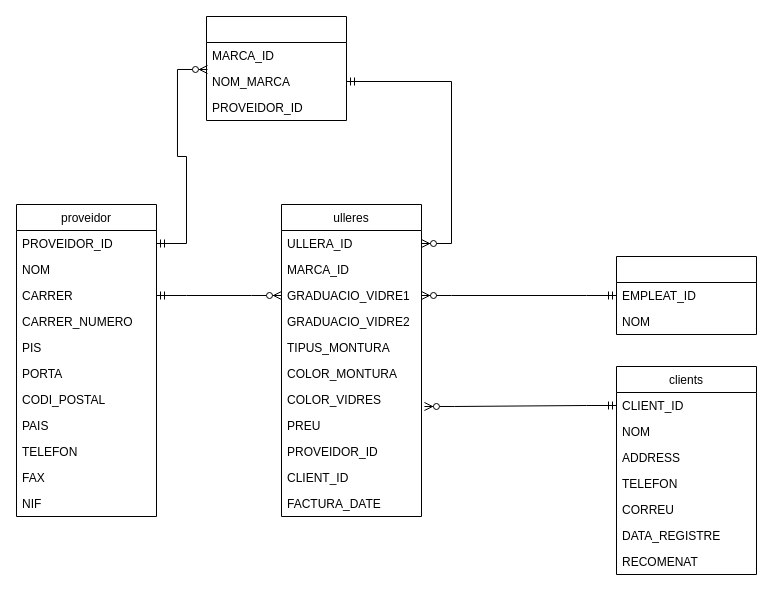
Some shapes in this 773 by 591 pixel diagram are drawn without their labels. Here are the shapes that lost their labels. From the top down, the box of each, then its label:
(206, 16, 346, 120): marques
(616, 256, 756, 334): empleats
